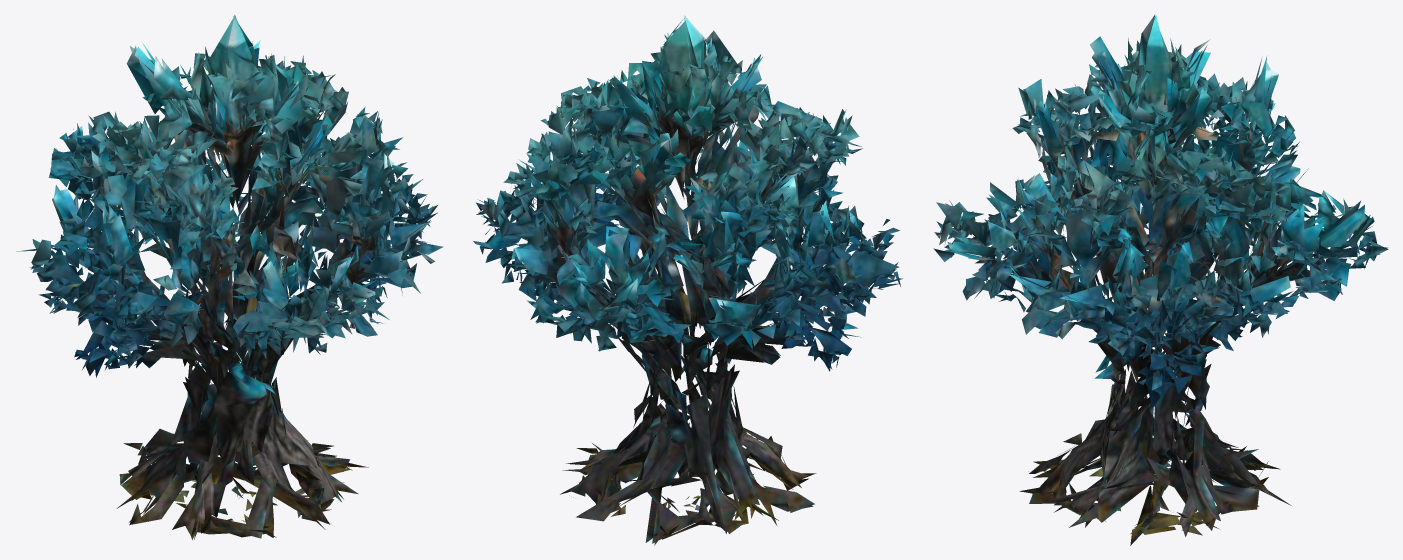
Rendered from arvore_cristal_mana_adulta.glb.
The picture shows the model from 3 angles, left to right: view 1: azimuth 30°, elevation 25°; view 2: azimuth 150°, elevation 25°; view 3: azimuth 270°, elevation 25°; orthographic projection.
Visible parts, largest first — view 1: geometry_0; view 2: geometry_0; view 3: geometry_0.
Boxes of the visible parts, x1,y1,x2,y2 form: geometry_0: [16, 14, 443, 539]; geometry_0: [473, 15, 902, 545]; geometry_0: [933, 14, 1388, 545].
Bounding box in the file's own units: 0.8683 × 1.02 × 0.8689.
1 material, 1 textured.
